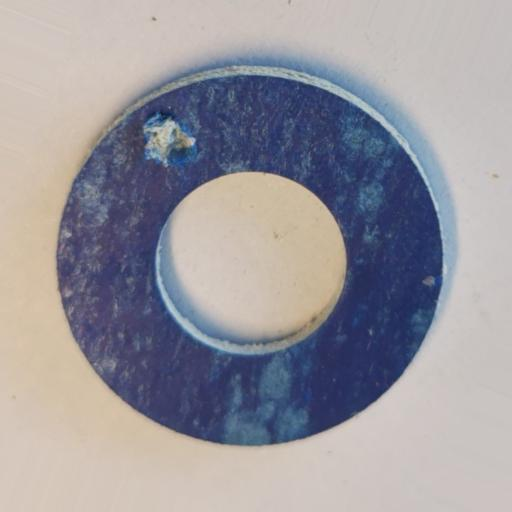defect: (142, 111, 198, 168)
